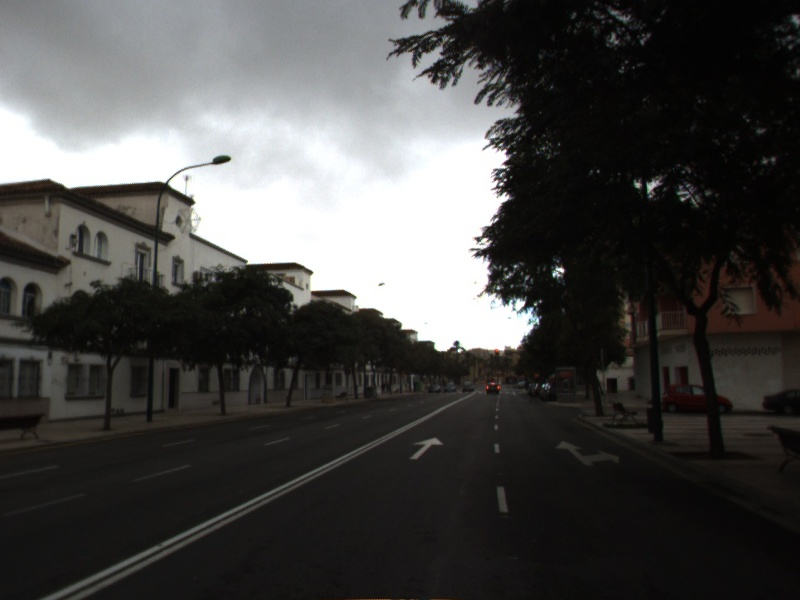STRAIGHT: (408, 435, 445, 461)
STRAIGHT_RIGHT: (554, 439, 620, 467)
